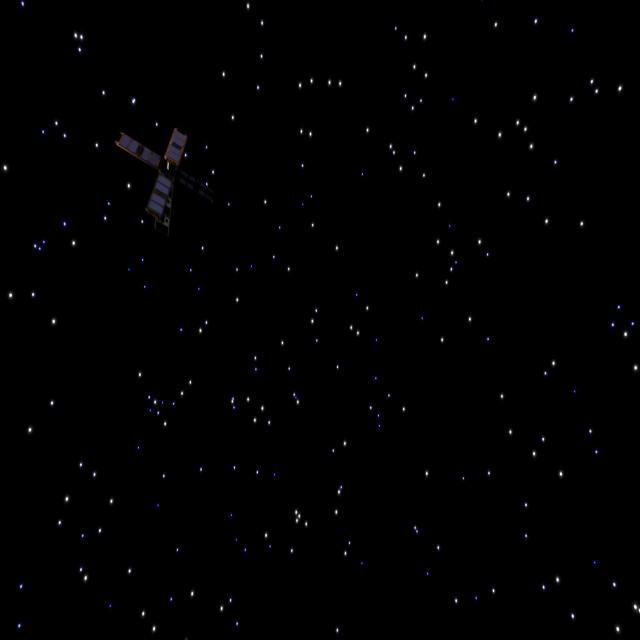medium_debris: (113, 125, 234, 233)
